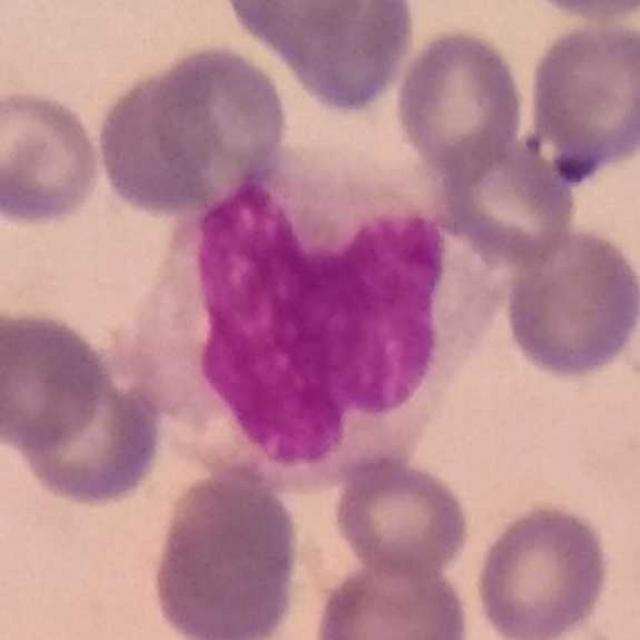mono: (108, 142, 514, 498)
